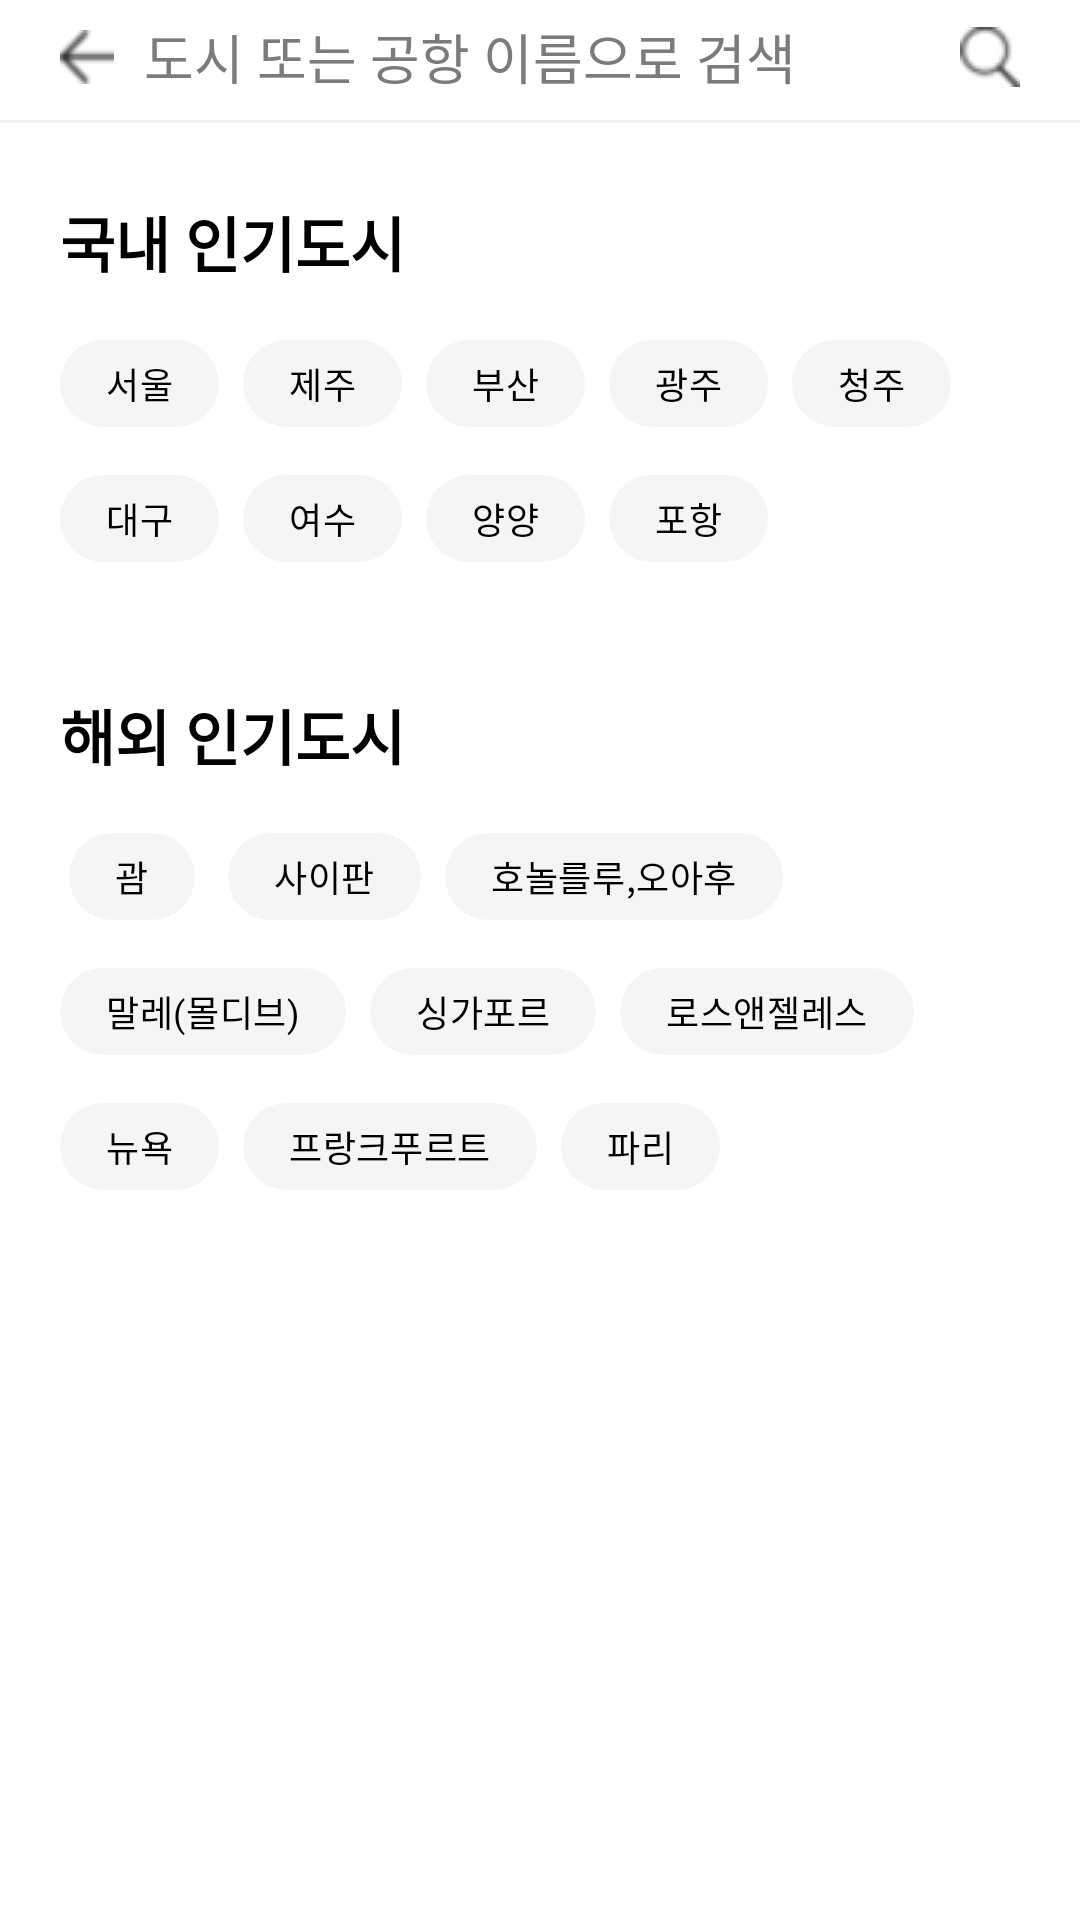

Where icons sit on this 1080x1920 app screen, as (x1, y1, x2, y2):
back: (60, 30, 114, 84)
search: (960, 27, 1020, 87)
